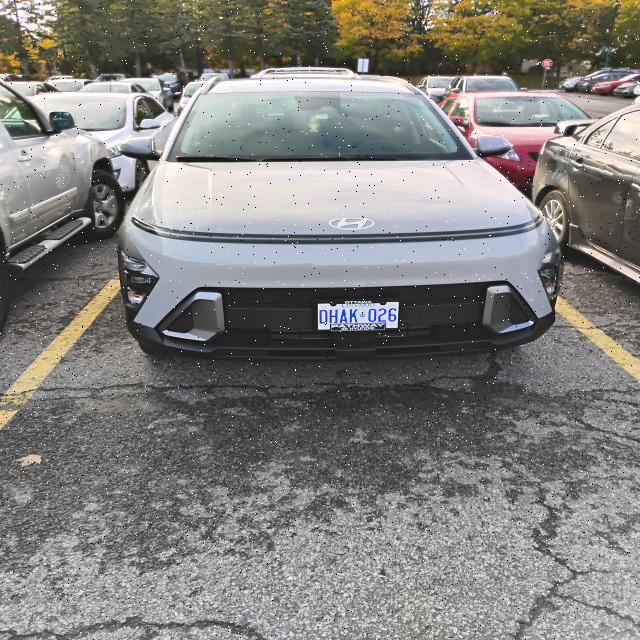plaque: (318, 301, 398, 331)
